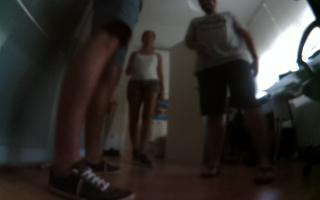person: (181, 1, 284, 200), (50, 1, 135, 200), (124, 26, 168, 174)
